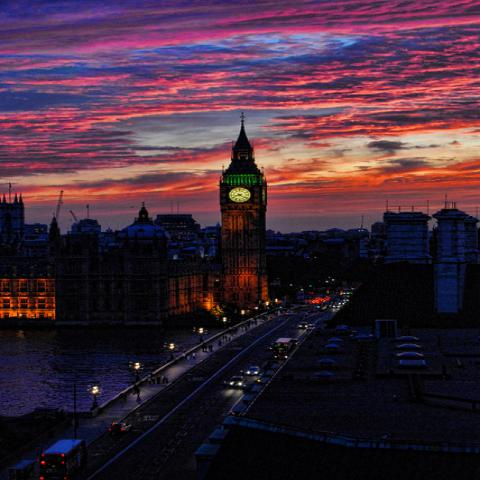bus: (40, 439, 88, 479)
car: (107, 422, 134, 436), (227, 376, 246, 388), (396, 336, 421, 343), (245, 367, 261, 375), (306, 324, 316, 331), (299, 322, 308, 329), (293, 338, 300, 347), (285, 310, 293, 316), (338, 301, 346, 305), (332, 304, 340, 308), (343, 298, 350, 301)
